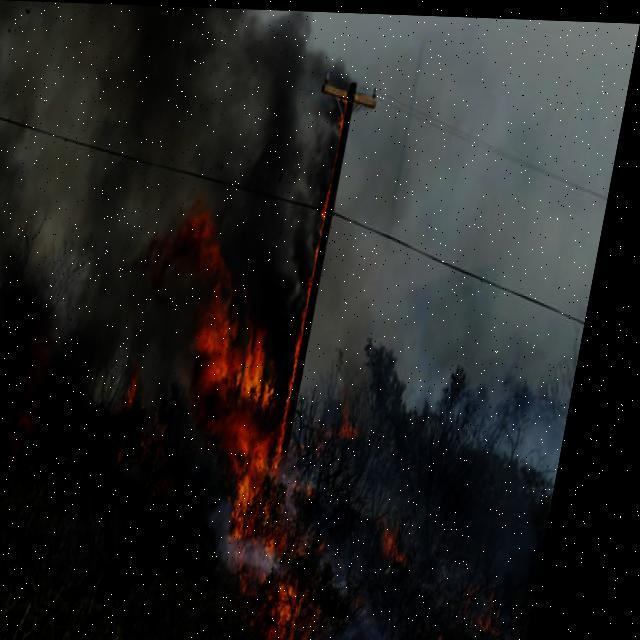Fire: (136, 126, 408, 634)
